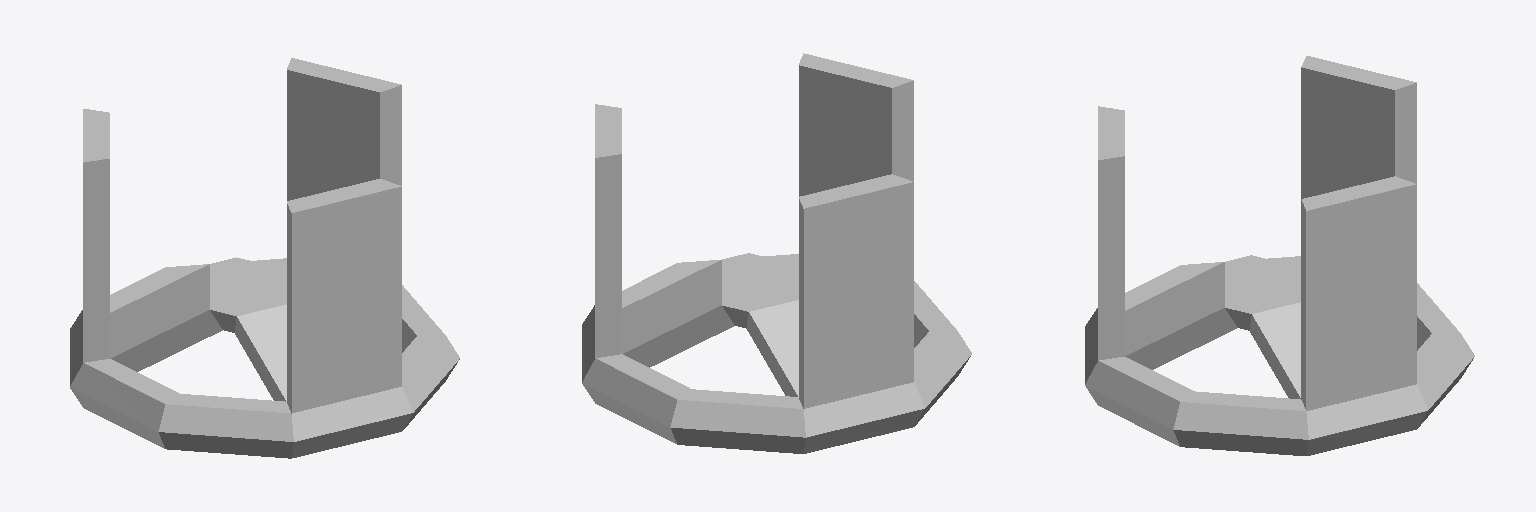
The model's file is domino_crown.obj.
3 views of the same model, side by side, from view 1: azimuth 30°, elevation 25°; view 2: azimuth 150°, elevation 25°; view 3: azimuth 270°, elevation 25° (orthographic).
Parts seen in each view (by area): view 1: Part12; view 2: Part12; view 3: Part12.
Boxes of the visible parts, box(x1,y1,x2,y2) form: Part12: box(70, 58, 459, 458); Part12: box(582, 53, 971, 453); Part12: box(1085, 56, 1474, 455).
Size of the model in its own units: 1.29 by 0.8798 by 1.27.